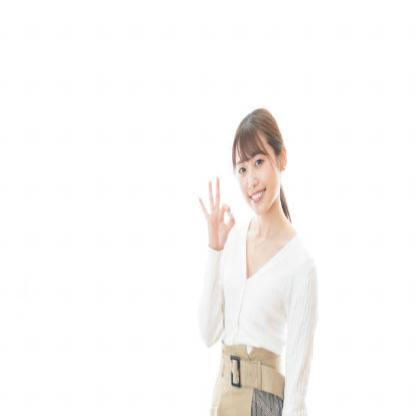ok: (197, 174, 237, 257)
